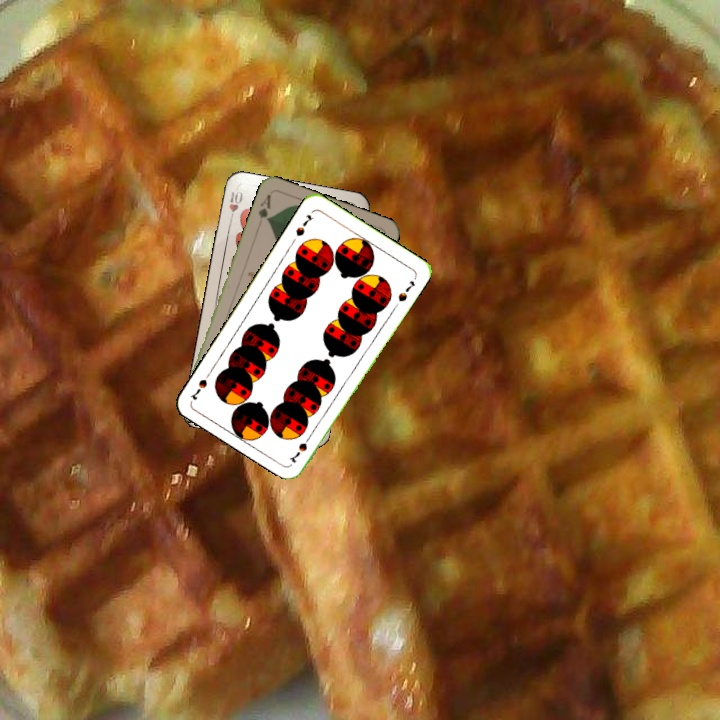GA: (254, 190, 273, 224)
H10: (225, 185, 245, 226)
S7: (286, 430, 315, 465), (292, 210, 317, 239)
